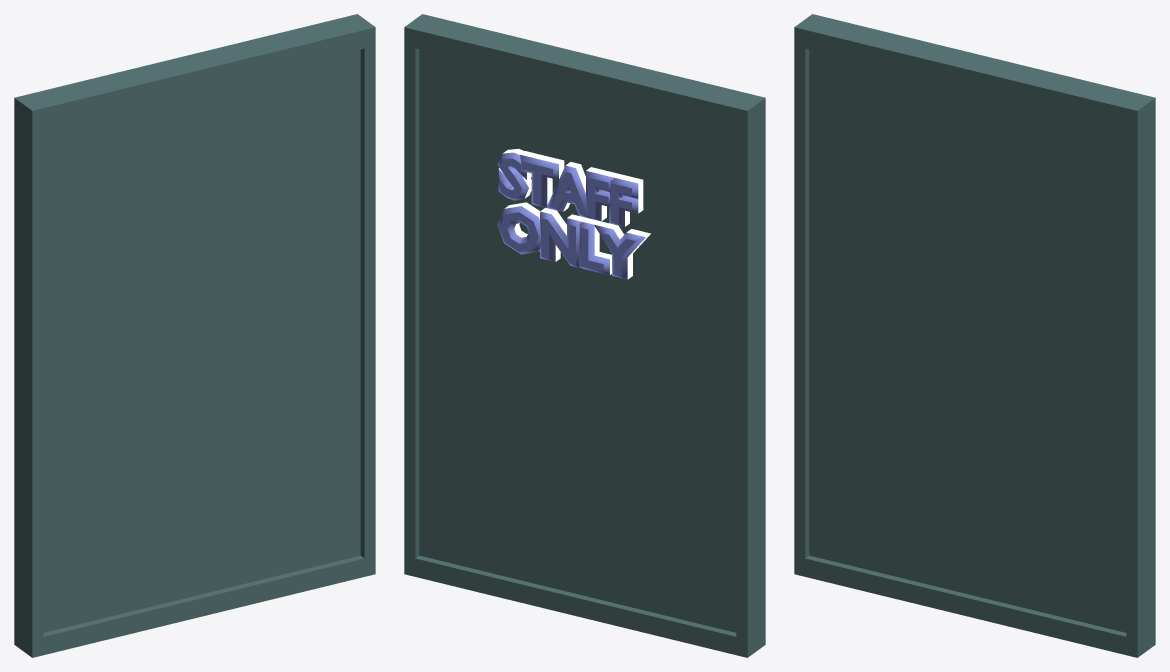
File: puerta_Seguridad.fbx
3 views of the same model, side by side, from view 1: azimuth 30°, elevation 25°; view 2: azimuth 150°, elevation 25°; view 3: azimuth 330°, elevation 25° (orthographic).
Visible parts, largest first — view 1: Puertas salas.012; view 2: Puertas salas.012, Text; view 3: Puertas salas.012.
Part boxes in pixels (box(x1,y1,x2,y2)): Puertas salas.012: box(14, 14, 375, 657); Puertas salas.012: box(404, 14, 765, 657); Text: box(497, 148, 650, 279); Puertas salas.012: box(794, 14, 1155, 657).
Bounding box in the file's own units: 692 × 85.1 × 1054.
